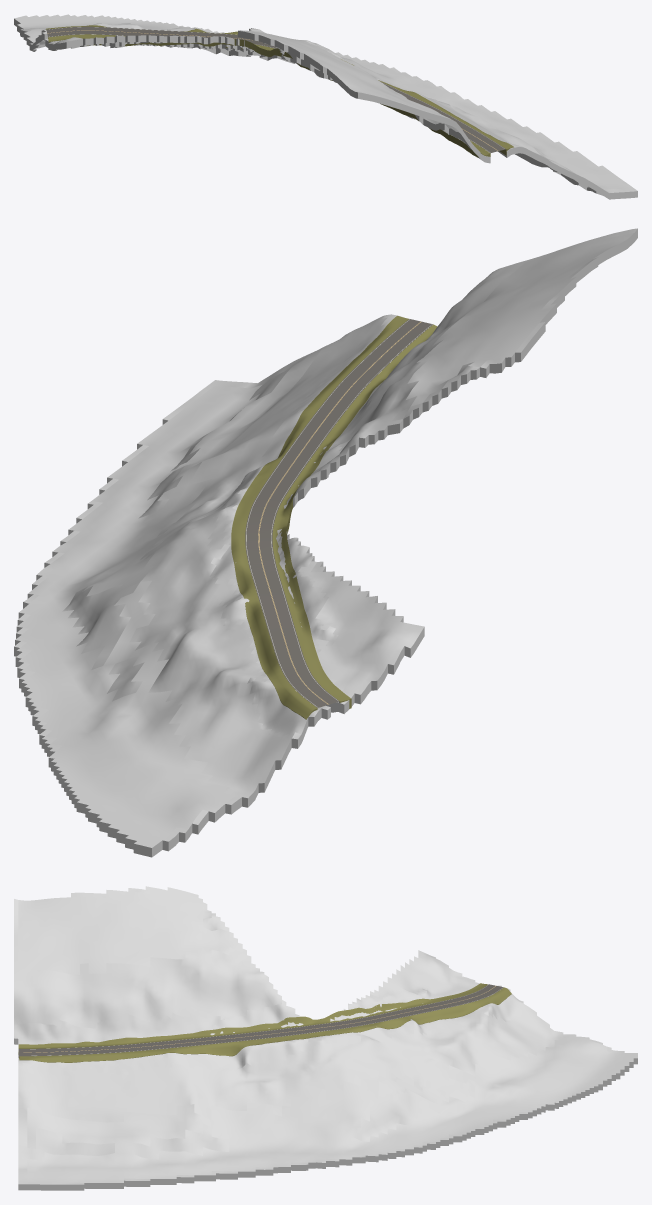
The model's file is conz_28.glb.
3 views of the same model, one above another, from view 1: azimuth 30°, elevation 25°; view 2: azimuth 150°, elevation 25°; view 3: azimuth 270°, elevation 25° (orthographic). The views are drawn at different scales.
Parts seen in each view (by area): view 1: terrain28, road28, verge28R, verge28L; view 2: terrain28, road28, verge28L, verge28R; view 3: terrain28, road28, verge28L, verge28R.
Boxes of the visible parts, x1,y1,x2,y2 form: terrain28: (14, 14, 637, 199); road28: (46, 26, 505, 153); verge28R: (48, 34, 490, 157); verge28L: (46, 25, 513, 155); terrain28: (14, 228, 637, 857); road28: (245, 319, 432, 707); verge28L: (231, 315, 408, 719); verge28R: (272, 324, 437, 708); terrain28: (14, 886, 637, 1190); road28: (18, 984, 503, 1056); verge28L: (19, 987, 511, 1062); verge28R: (18, 983, 487, 1054).
Size of the model in its own units: 174 by 84.95 by 284.
